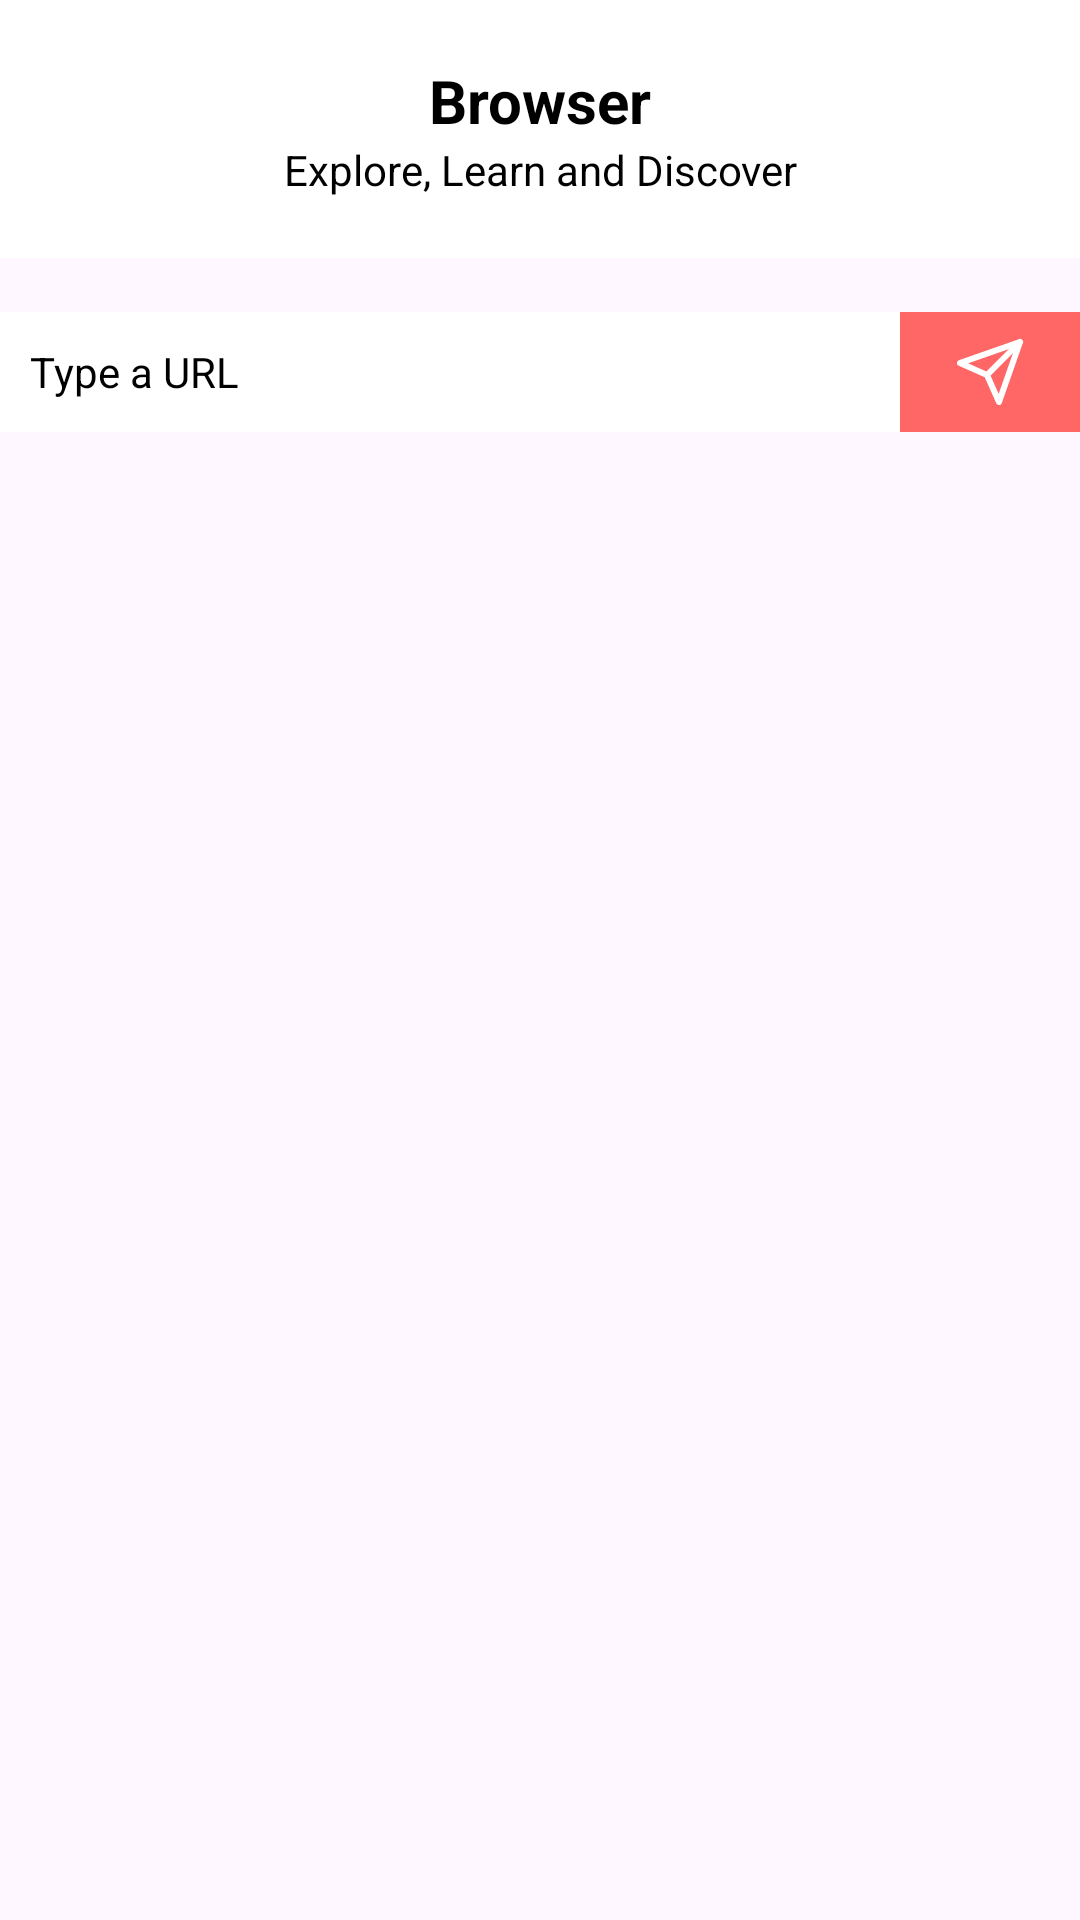

Locate icon controls on the screen. Image size 1080px x 1920px, boxes as bbox(x1, y1, x2, y2).
send: bbox(900, 312, 1080, 432)
